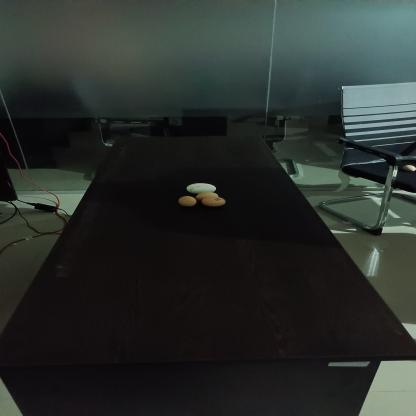egg: (184, 182, 218, 194), (174, 194, 198, 207), (203, 196, 228, 208), (192, 190, 220, 200)
